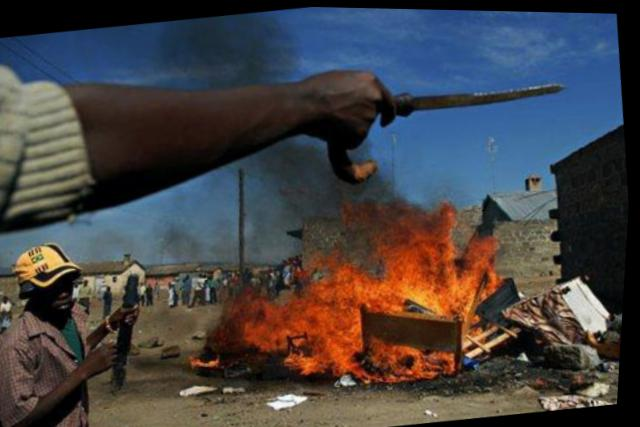fire: (303, 264, 369, 372), (380, 236, 423, 301), (466, 228, 505, 295), (244, 293, 288, 350), (417, 268, 454, 318), (421, 224, 457, 272), (447, 263, 480, 315), (395, 338, 430, 377), (359, 267, 391, 309), (281, 291, 313, 332), (285, 346, 322, 372), (424, 344, 457, 371), (373, 337, 400, 365), (193, 352, 223, 367)
